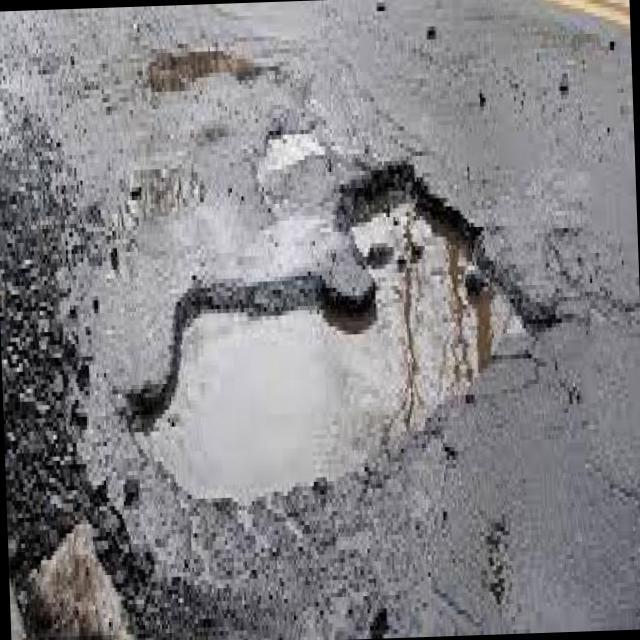Pothole: (150, 160, 525, 502)
